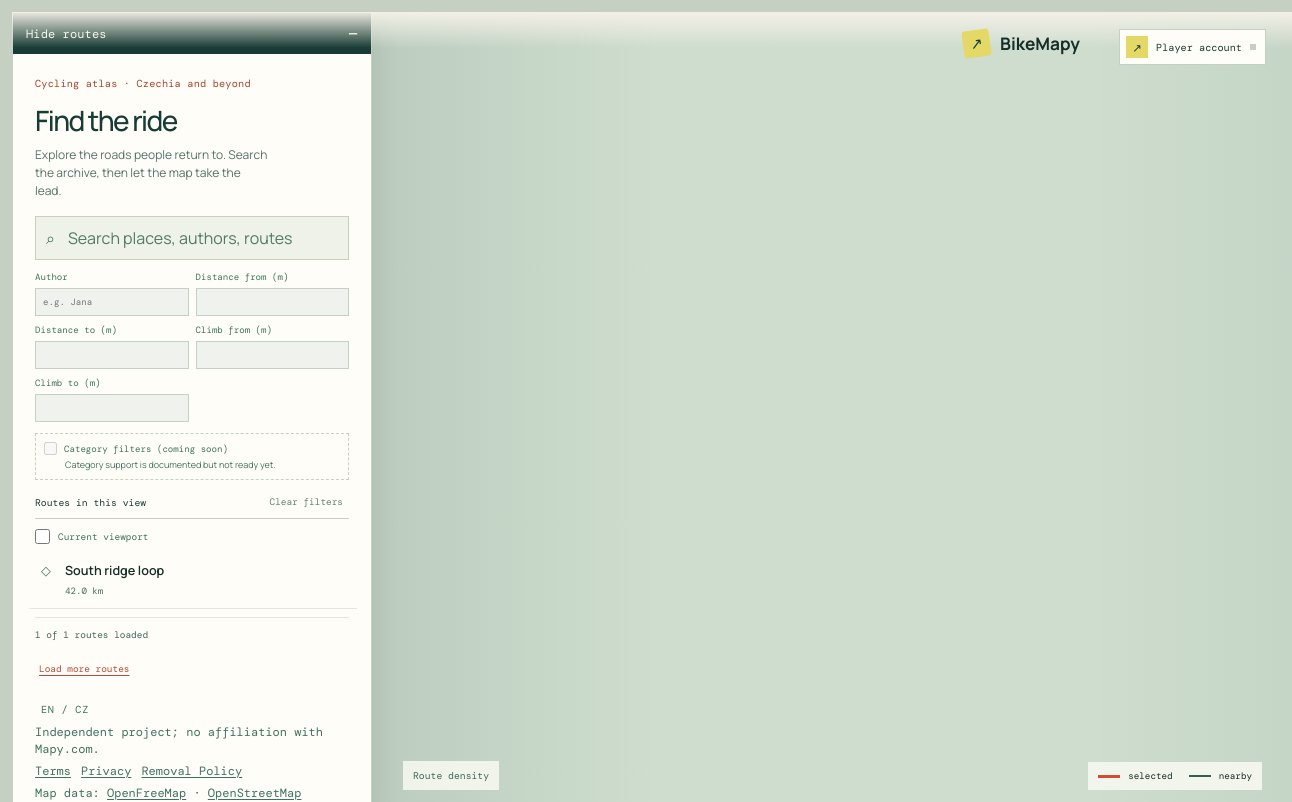
Test: BikeMapy route discovery › shows completion when a later page is empty
The image size is (1292, 802).
Click the button "Load more routes" at (84, 669), box [35, 649, 134, 689]
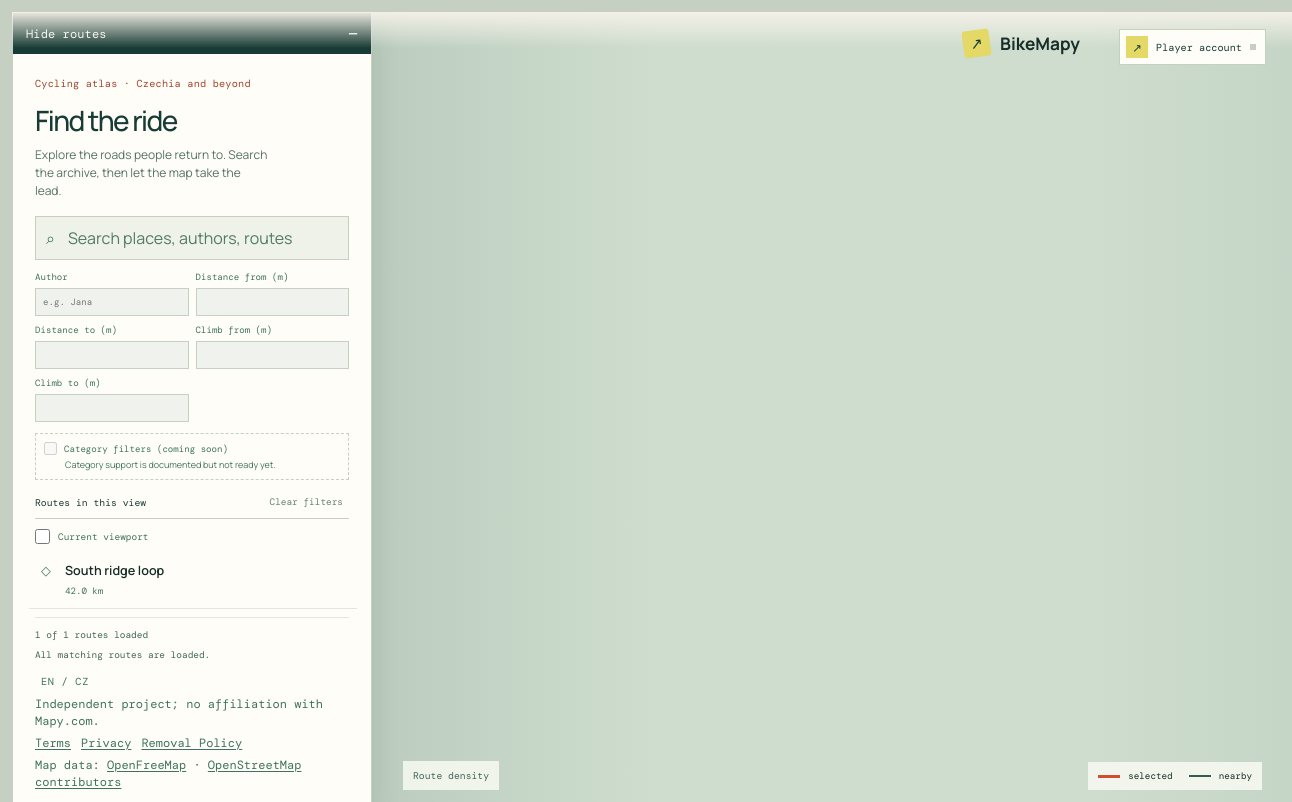
Check: the text "All matching routes are loaded." is shown, box [35, 649, 210, 661]
Check: the button "Load more routes" is gone
